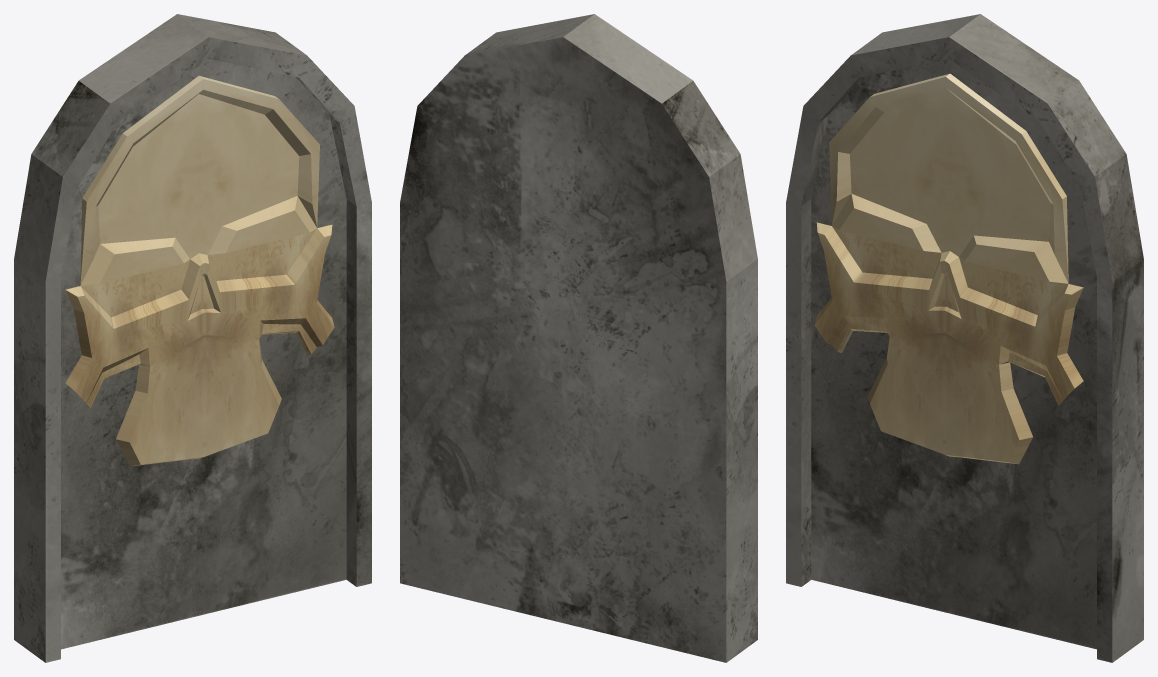
File: Skull_Door.fbx
3 renders of one model, left to right at view 1: azimuth 30°, elevation 25°; view 2: azimuth 150°, elevation 25°; view 3: azimuth 330°, elevation 25°, orthographic.
Parts seen in each view (by area): view 1: pCylinder21, Skull; view 2: pCylinder21; view 3: pCylinder21, Skull.
Part boxes in pixels (x1,y1,x2,y2): pCylinder21: [14, 14, 371, 662]; Skull: [65, 76, 334, 466]; pCylinder21: [400, 14, 757, 662]; pCylinder21: [786, 14, 1143, 662]; Skull: [814, 73, 1083, 464].
Bounding box in the file's own units: 4.05 × 6.96 × 0.6897.
